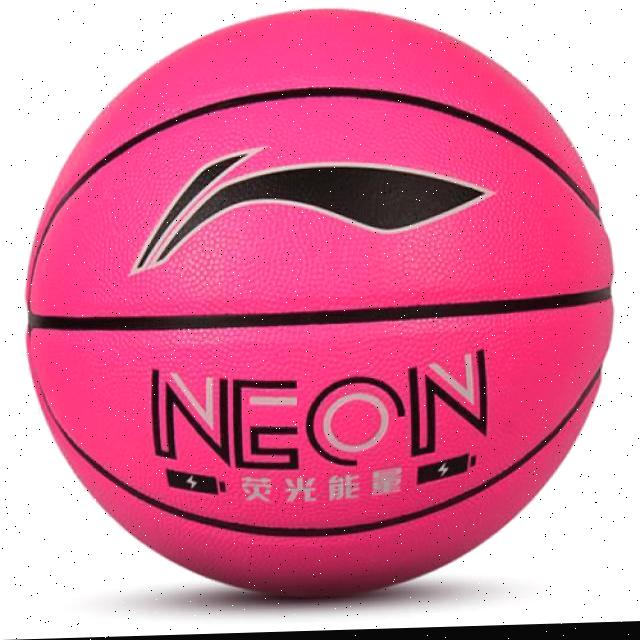Basketball: (29, 0, 613, 606)
